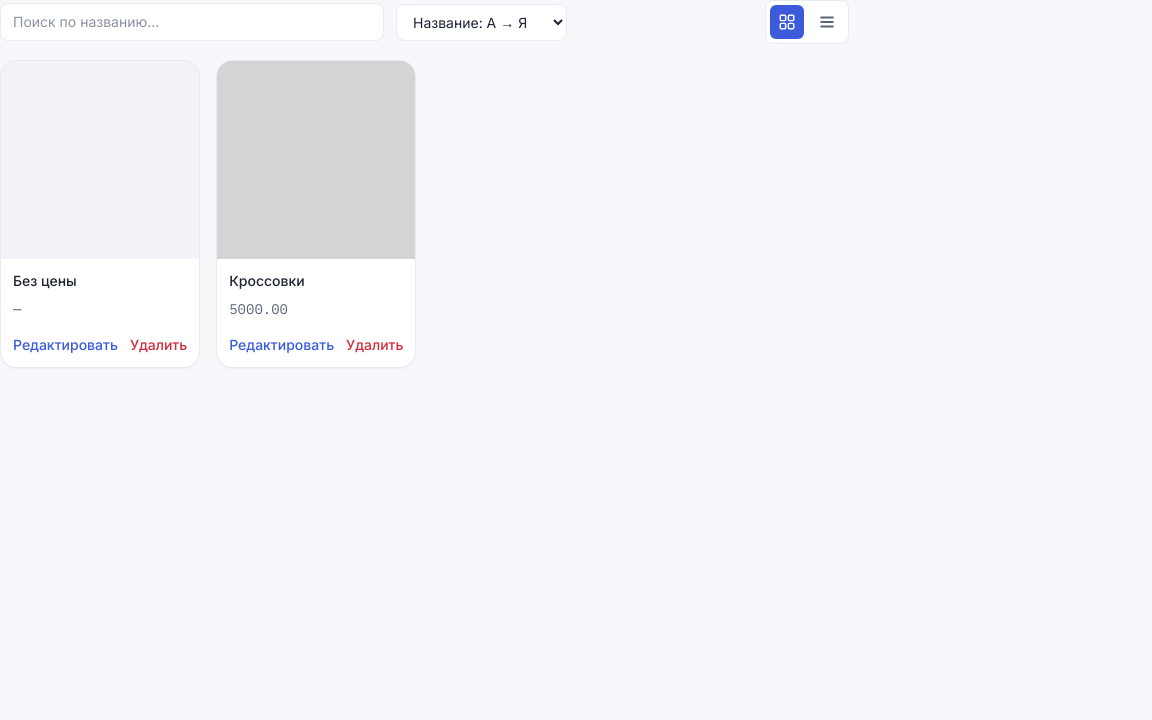
deletes the product and removes its row after confirming in the dialog
Click the button "Удалить" below "5000.00".
click(375, 345)  # box [346,335,403,355]
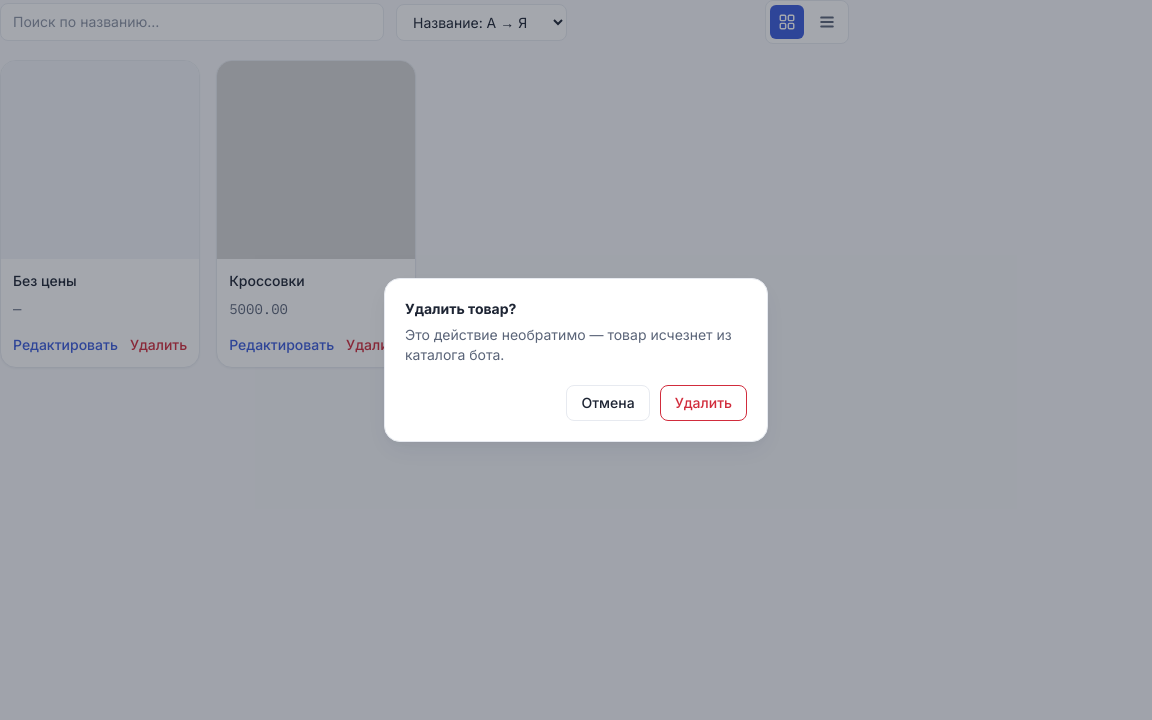
Now the text "Удалить товар?" is shown, box [405,300,516,317]
Click the button "Удалить".
click(703, 403)  # box [660,385,747,421]
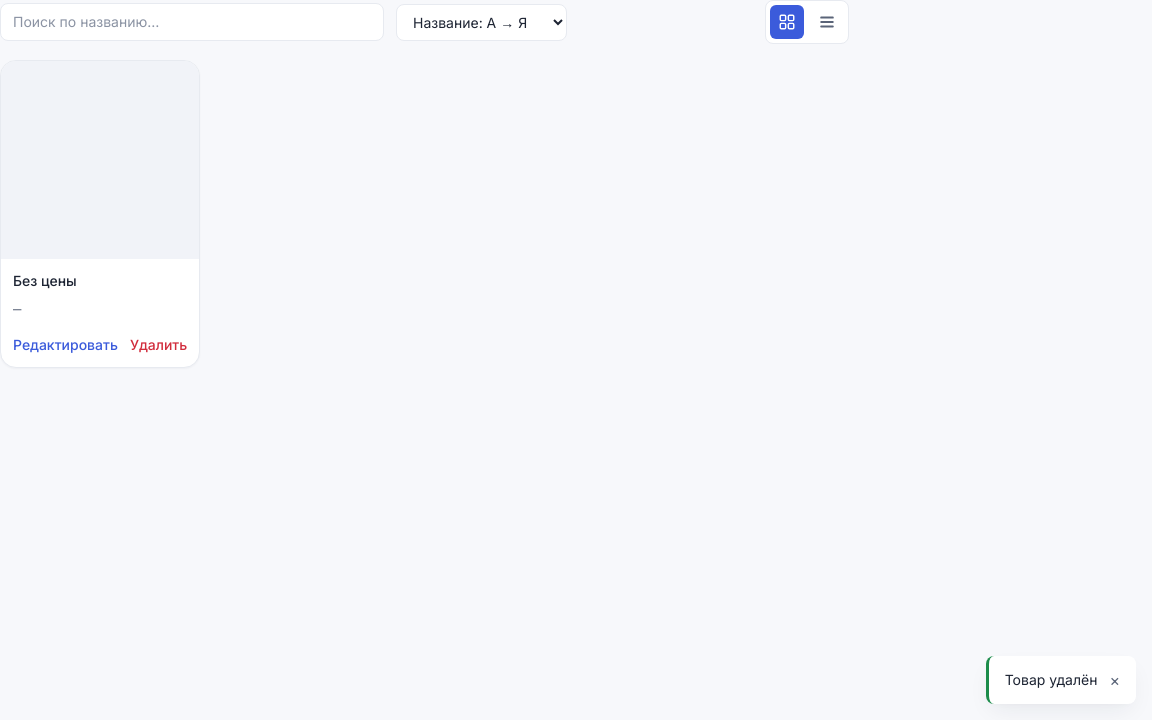
Now the text "Кроссовки" is gone
Now the message shows "Товар удалён", box [1005,671,1098,688]
